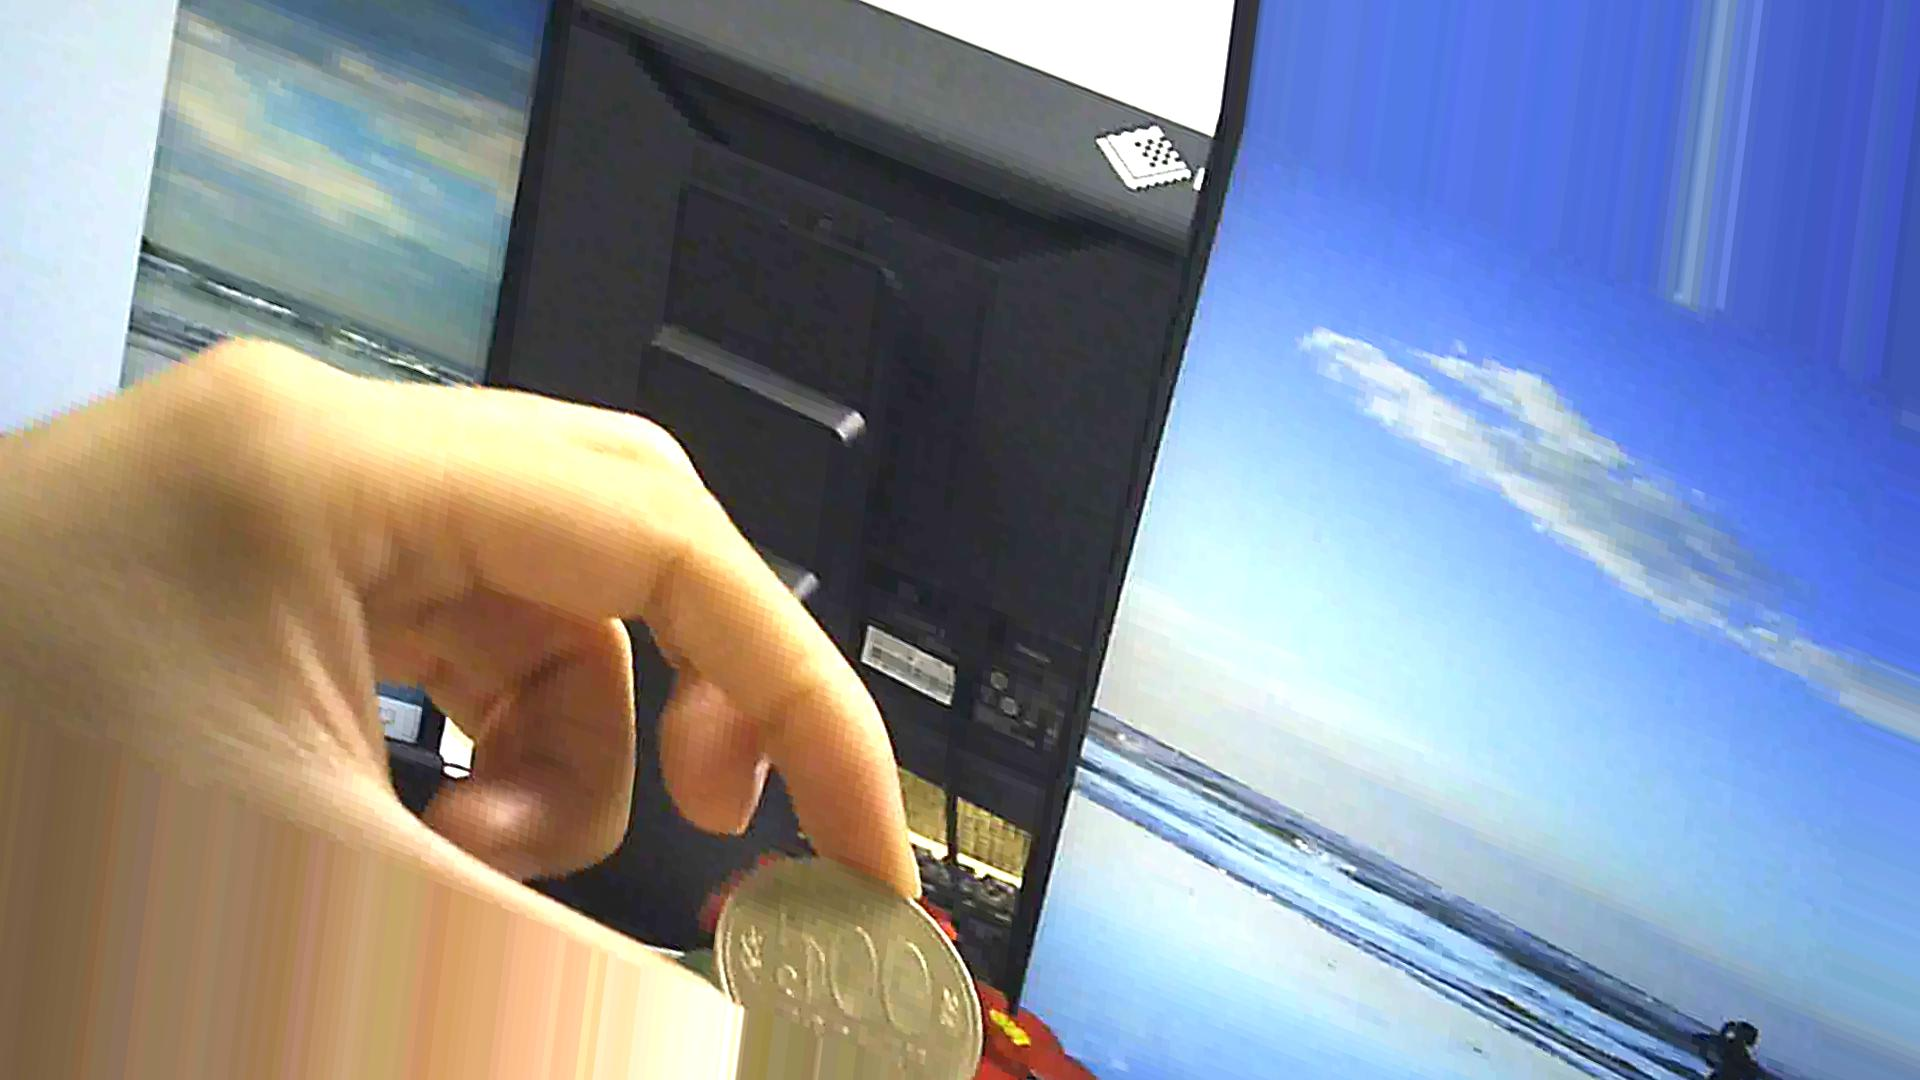500 Yen: (696, 853, 990, 1079)
